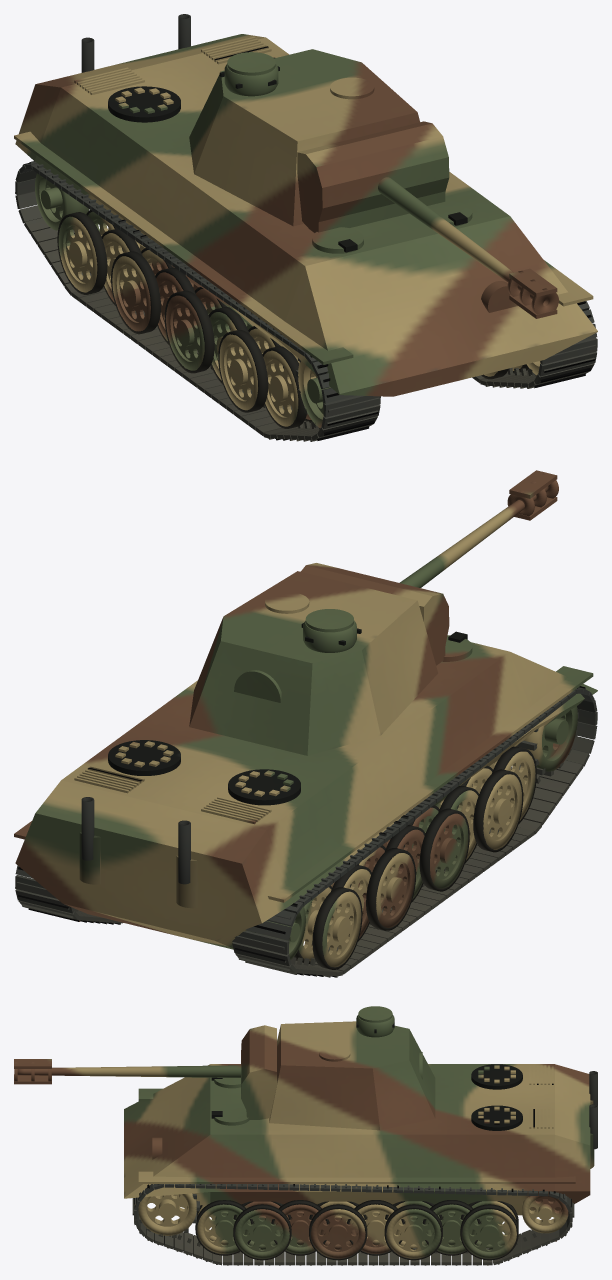
Rendered from panther_g.glb.
The picture shows the model from 3 angles, top to bottom: view 1: azimuth 30°, elevation 25°; view 2: azimuth 150°, elevation 25°; view 3: azimuth 270°, elevation 25°; orthographic projection. The views are drawn at different scales.
Visible parts, largest first — view 1: HullGeometry, TurretGeometry, TrackLeft, ChinMantlet, TrackGuard, Wheel_-1_3_1, Wheel_-1_7_1, Wheel_-1_1_1, Wheel_-1_5_1, TrackRight, Wheel_-1_0_1, GunBarrel (+14 smaller); view 2: HullGeometry, TurretGeometry, TrackLeft, TrackGuard, Wheel_-1_7_1, Wheel_-1_3_1, Wheel_-1_1_1, Wheel_-1_5_1, ChinMantlet, Wheel_Drive_-1, GunBarrel, TrackRight (+16 smaller); view 3: HullGeometry, TurretGeometry, TrackRight, TrackGuard.001, ChinMantlet, Wheel_1_7_1, Wheel_1_1_1, Wheel_1_3_1, Wheel_1_5_1, GunBarrel, Wheel_Drive_1, Wheel_1_0_1 (+15 smaller).
Boxes of the visible parts, x1,y1,x2,y2 form: HullGeometry: [15, 34, 597, 396]; TurretGeometry: [189, 49, 419, 226]; TrackLeft: [15, 161, 380, 441]; ChinMantlet: [297, 121, 449, 232]; TrackGuard: [14, 131, 353, 364]; Wheel_-1_3_1: [164, 290, 214, 373]; Wheel_-1_7_1: [57, 212, 107, 294]; Wheel_-1_1_1: [218, 330, 268, 412]; Wheel_-1_5_1: [111, 251, 160, 334]; TrackRight: [472, 301, 597, 388]; Wheel_-1_0_1: [262, 346, 306, 428]; GunBarrel: [378, 177, 548, 305]; HullGeometry: [15, 642, 597, 949]; TurretGeometry: [189, 571, 437, 755]; TrackLeft: [232, 686, 597, 977]; TrackGuard: [268, 666, 593, 902]; Wheel_-1_7_1: [312, 887, 362, 969]; Wheel_-1_3_1: [419, 808, 469, 891]; Wheel_-1_1_1: [473, 769, 523, 852]; Wheel_-1_5_1: [366, 848, 415, 930]; ChinMantlet: [300, 563, 449, 665]; Wheel_Drive_-1: [516, 706, 578, 776]; GunBarrel: [399, 486, 548, 587]; TrackRight: [15, 865, 122, 924]; HullGeometry: [124, 1064, 590, 1215]; TurretGeometry: [269, 1021, 435, 1130]; TrackRight: [132, 1184, 574, 1265]; TrackGuard.001: [138, 1171, 575, 1183]; ChinMantlet: [241, 1025, 276, 1119]; Wheel_1_7_1: [460, 1204, 518, 1260]; Wheel_1_1_1: [233, 1204, 291, 1260]; Wheel_1_3_1: [309, 1204, 367, 1260]; Wheel_1_5_1: [384, 1204, 442, 1260]; GunBarrel: [17, 1065, 241, 1077]; Wheel_Drive_1: [137, 1193, 199, 1237]; Wheel_1_0_1: [195, 1200, 253, 1255].
Size of the model in its own units: 3.26 by 3.13 by 8.6.
Materials: 1 (1 with a texture image).
